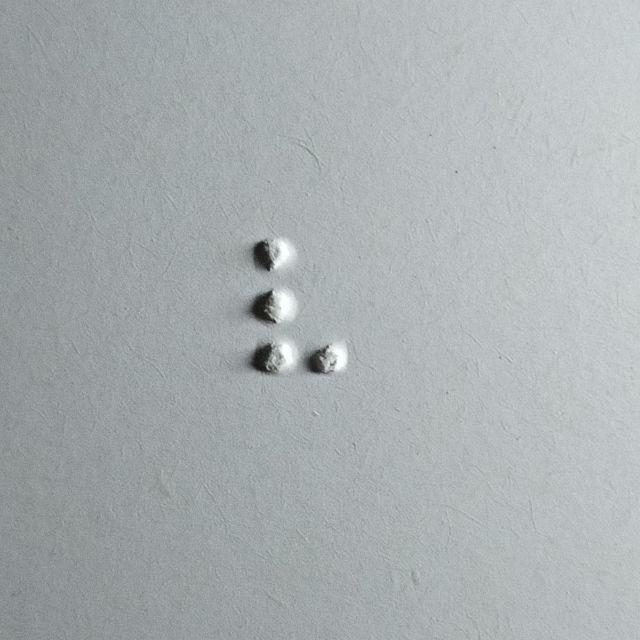bagaman: (254, 232, 349, 376)
